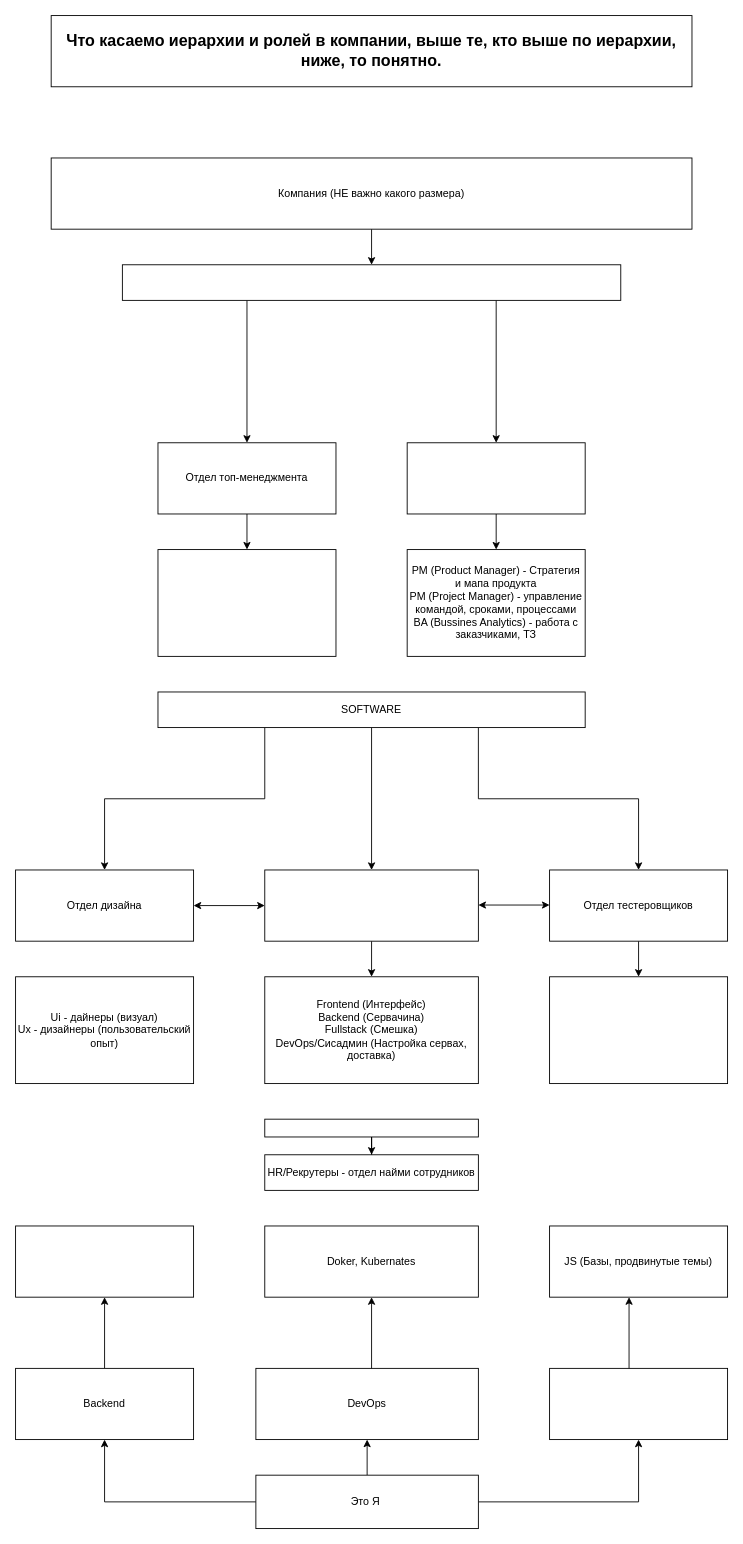
The diagram is 743 pixels wide and 1544 high, and some of its shapes have lost their labels. Each missing label, with the box of its shape:
C# (Базы, продвинутые темы): (15, 1225, 194, 1297)
CEO - ГенДиректор CTO - ТехДиректор: (157, 549, 336, 656)
Frontend: (549, 1367, 728, 1440)
QA-тестировщики (ручники/автоматические): (549, 976, 728, 1084)
Маркетинг: (121, 264, 621, 300)
Отдел админов: (264, 1118, 478, 1137)
Отдел разработчиков: (264, 869, 478, 941)
Отдел управления продуктом: (406, 442, 585, 514)
